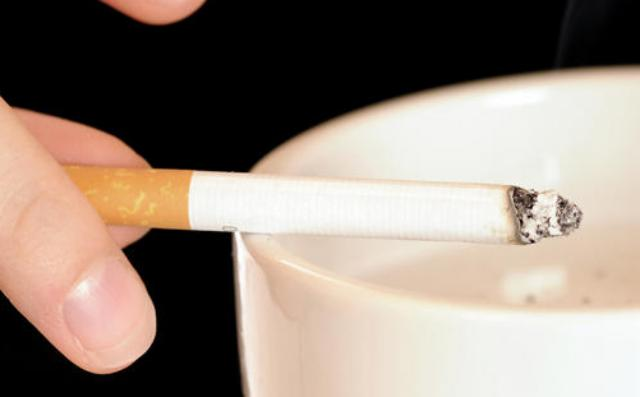Cigarette: (56, 162, 584, 254)
